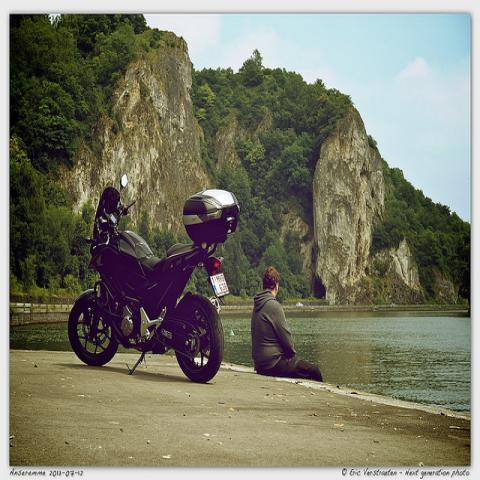motorcycle: (69, 172, 241, 385)
